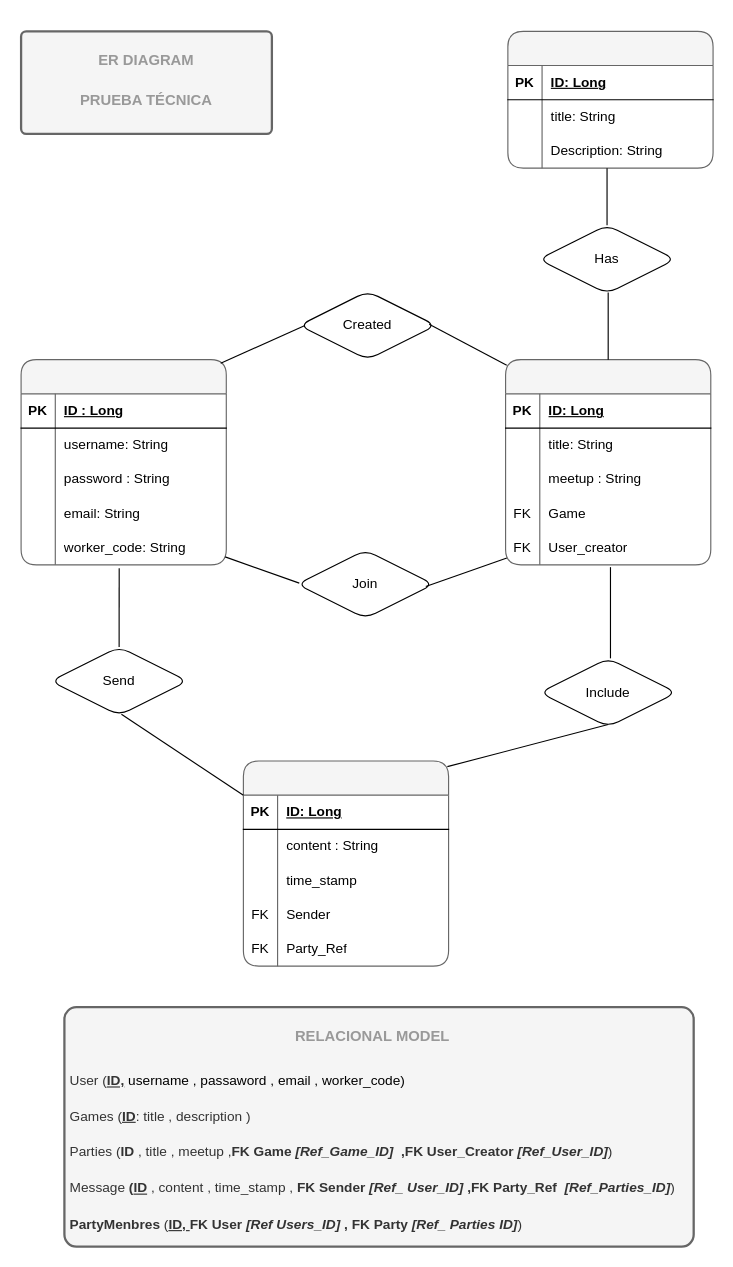
This 733x1267 diagram has some shape labels left out. Each missing label, with the box of its shape:
Games: (507, 30, 713, 168)
Messages: (242, 760, 449, 966)
Parties: (504, 359, 711, 565)
Users: (20, 359, 226, 565)
